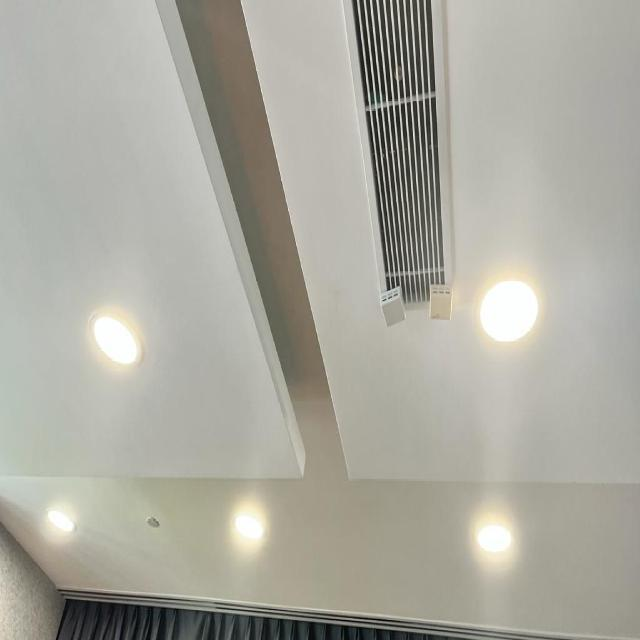Light-Opened: (474, 274, 544, 347), (84, 303, 149, 373), (472, 520, 518, 556), (230, 508, 268, 548), (45, 504, 80, 539)
